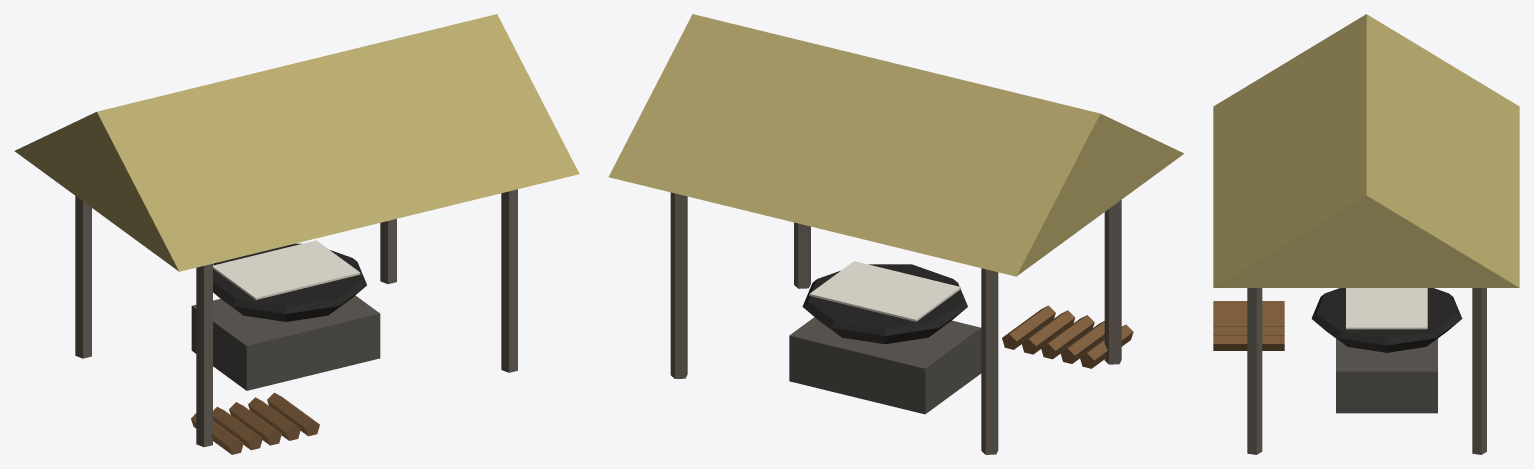
Rendered from a3h_salt_shed.glb.
3 views of the same model, side by side, from view 1: azimuth 30°, elevation 25°; view 2: azimuth 150°, elevation 25°; view 3: azimuth 270°, elevation 25° (orthographic). The views are drawn at different scales.
Parts seen in each view (by area): view 1: a3h_salt_shed; view 2: a3h_salt_shed; view 3: a3h_salt_shed.
Boxes of the visible parts, x1,y1,x2,y2 form: a3h_salt_shed: (14, 14, 579, 454); a3h_salt_shed: (608, 14, 1184, 454); a3h_salt_shed: (1213, 14, 1519, 454).
Bounding box in the file's own units: 4.2 × 3 × 3.
